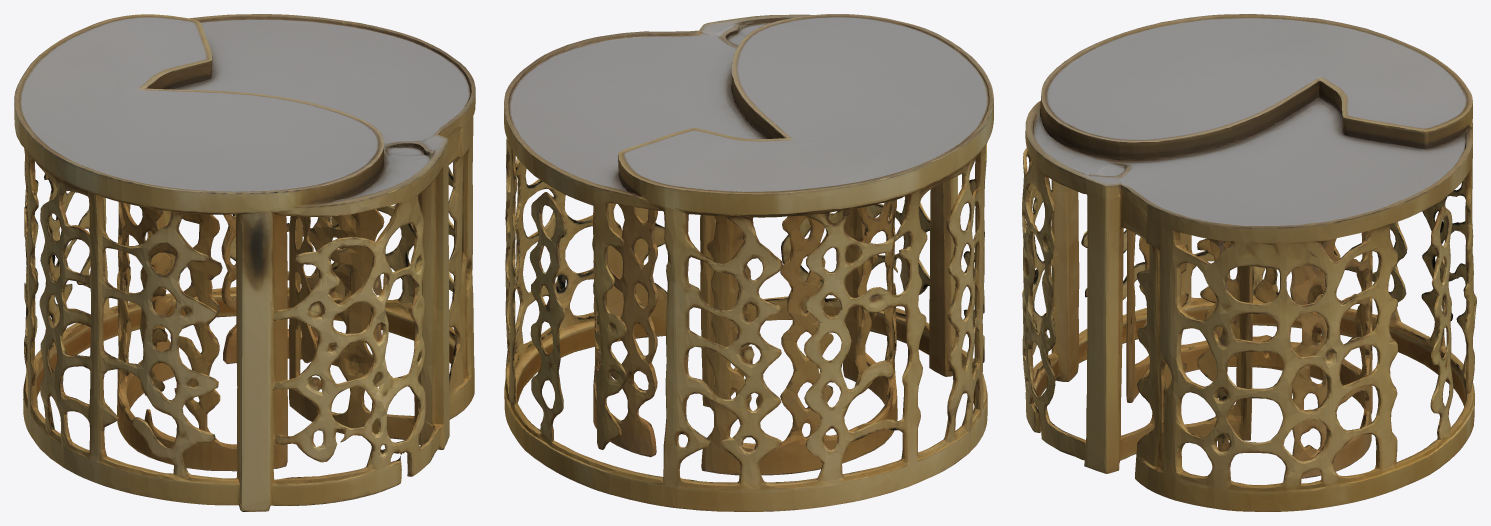
The model's file is mwctg273p_coffee_table_gold_3_piece_abst.glb.
3 views of the same model, side by side, from view 1: azimuth 30°, elevation 25°; view 2: azimuth 150°, elevation 25°; view 3: azimuth 270°, elevation 25° (orthographic). The views are drawn at different scales.
Parts seen in each view (by area): view 1: world; view 2: world; view 3: world.
Boxes of the visible parts, bbox=[...] form: world: bbox=[14, 14, 475, 511]; world: bbox=[504, 14, 993, 511]; world: bbox=[1022, 14, 1476, 511].
Size of the model in its own units: 0.9973 by 0.7317 by 0.9738.
Materials: 1 (1 with a texture image).
